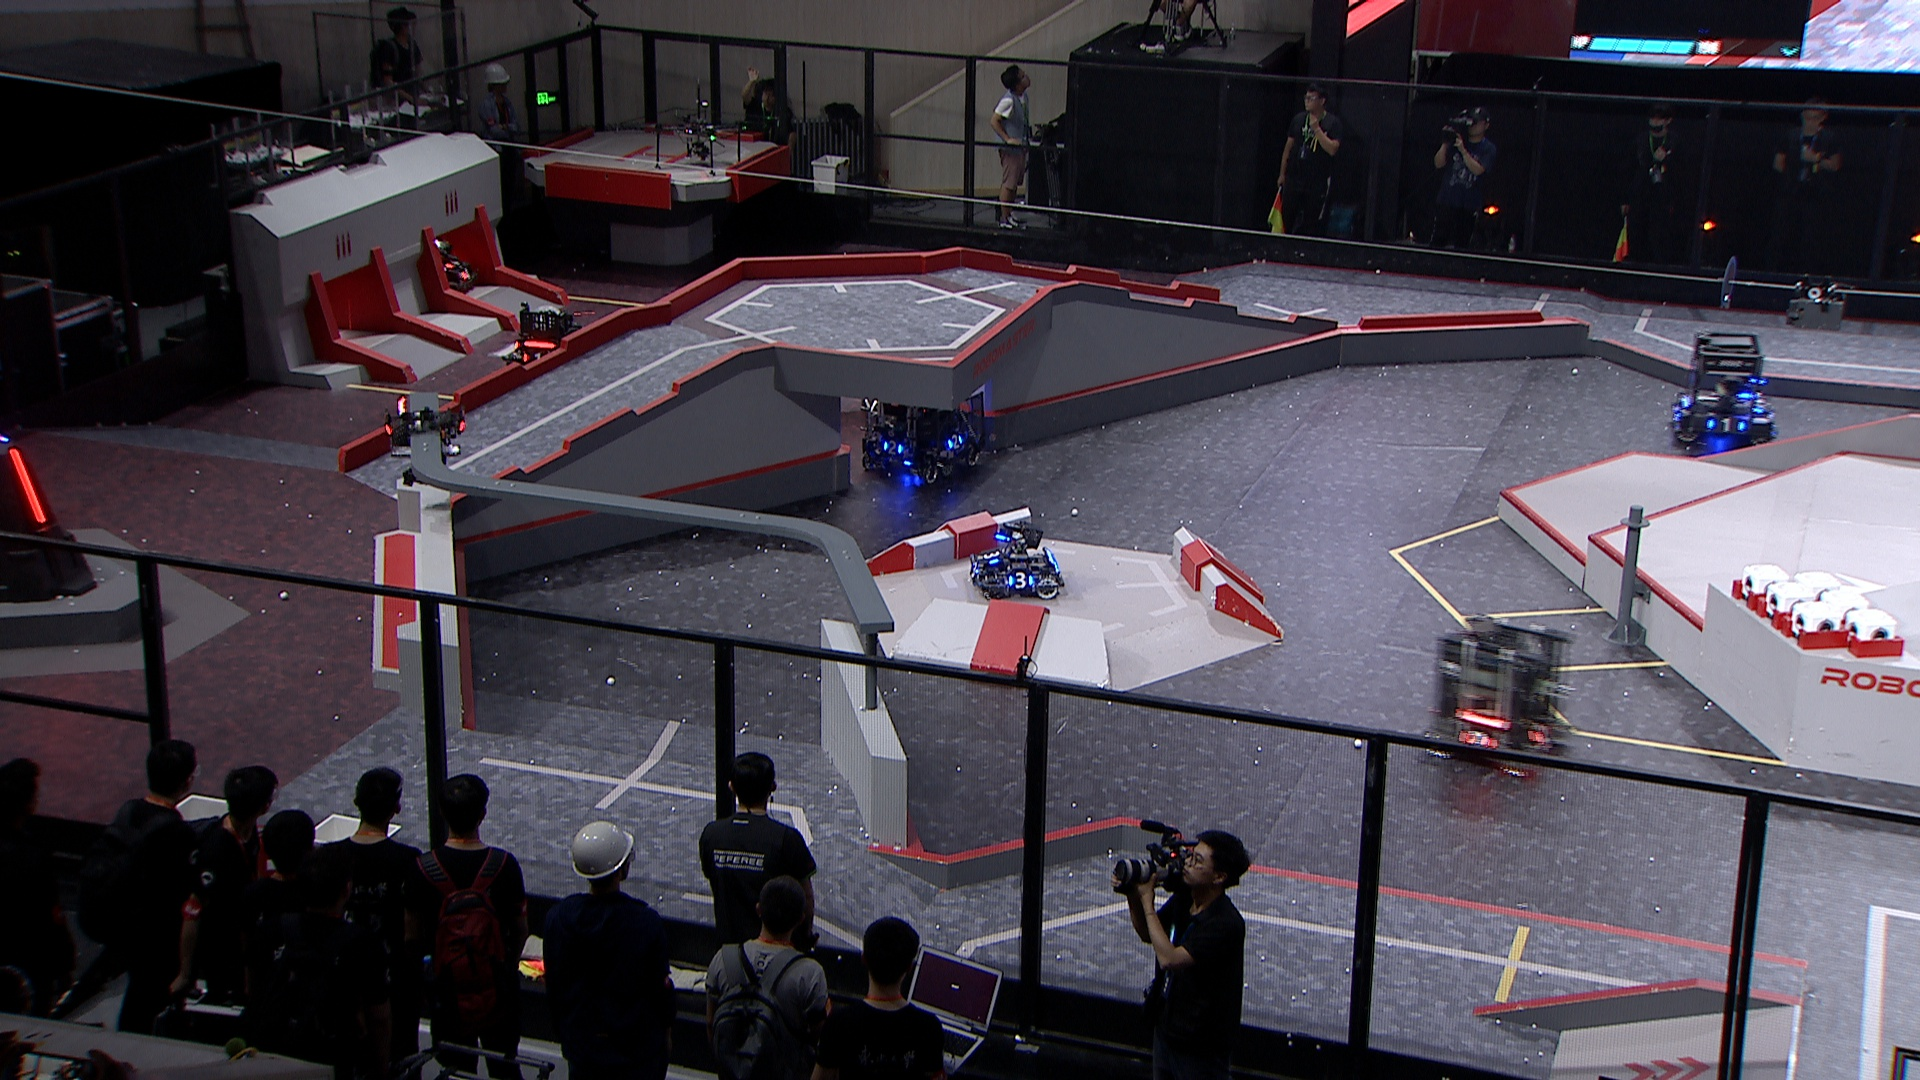armor: (5, 444, 49, 526), (1708, 417, 1745, 436), (1006, 570, 1035, 588), (1532, 721, 1551, 745), (1458, 731, 1481, 749), (945, 433, 967, 450), (981, 547, 1002, 564), (884, 439, 902, 458), (520, 348, 539, 363), (967, 559, 981, 578), (460, 266, 473, 281), (446, 256, 462, 266)
car: (1416, 609, 1571, 781), (851, 365, 989, 485), (1669, 327, 1776, 451), (963, 520, 1064, 603), (501, 305, 589, 386), (417, 233, 489, 301)
watcher: (381, 396, 471, 491)
